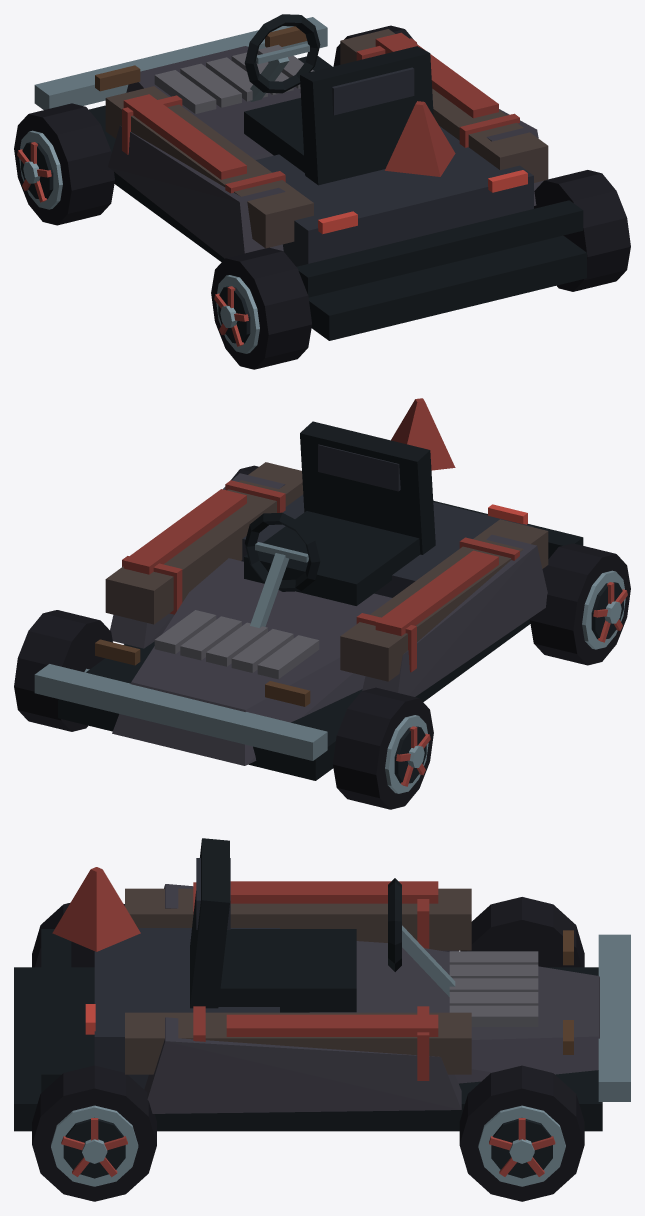
File: kart.glb
3 renders of one model, top to bottom at view 1: azimuth 30°, elevation 25°; view 2: azimuth 150°, elevation 25°; view 3: azimuth 270°, elevation 25°, orthographic. The views are drawn at different scales.
Visible parts, largest first — view 1: chassis, wheel-rear-left, wheel-front-left, wheel-rear-right; view 2: chassis, wheel-front-left, wheel-rear-left, wheel-front-right; view 3: chassis, wheel-front-right, wheel-rear-right, wheel-front-left, wheel-rear-left.
Boxes of the visible parts, x1,y1,x2,y2 form: chassis: (34,14,586,340); wheel-rear-left: (211,247,311,369); wheel-front-left: (14,103,114,225); wheel-rear-right: (534,170,630,291); chassis: (34,398,583,780); wheel-front-left: (333,687,433,809); wheel-rear-left: (530,543,630,665); wheel-front-right: (14,610,112,731); chassis: (14,838,630,1131); wheel-front-right: (459,1065,584,1201); wheel-rear-right: (32,1065,156,1201); wheel-front-left: (460,897,584,967); wheel-rear-left: (32,902,124,967).
Size of the model in its own units: 2.42 by 1.3 by 3.06.
